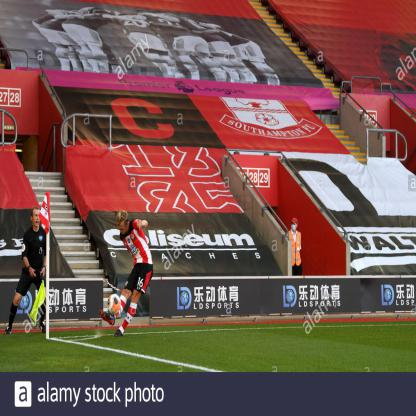corner kick: (28, 175, 162, 357)
